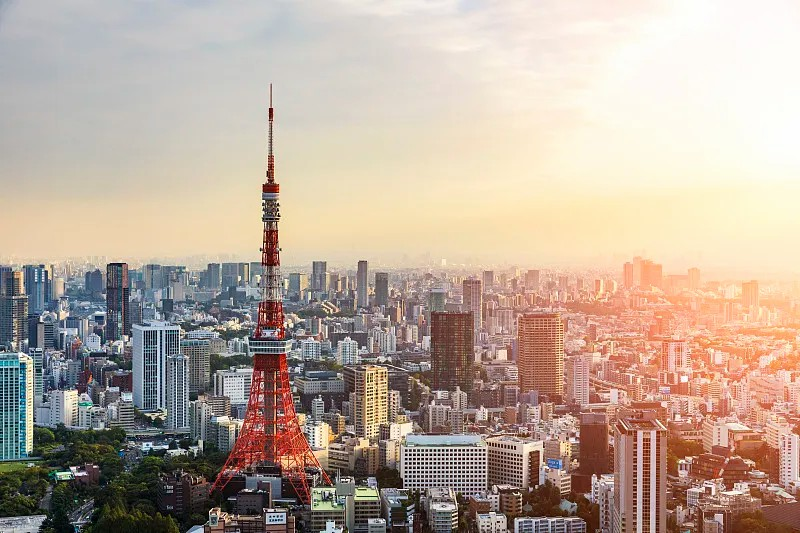Tokyo: (208, 75, 334, 507)
